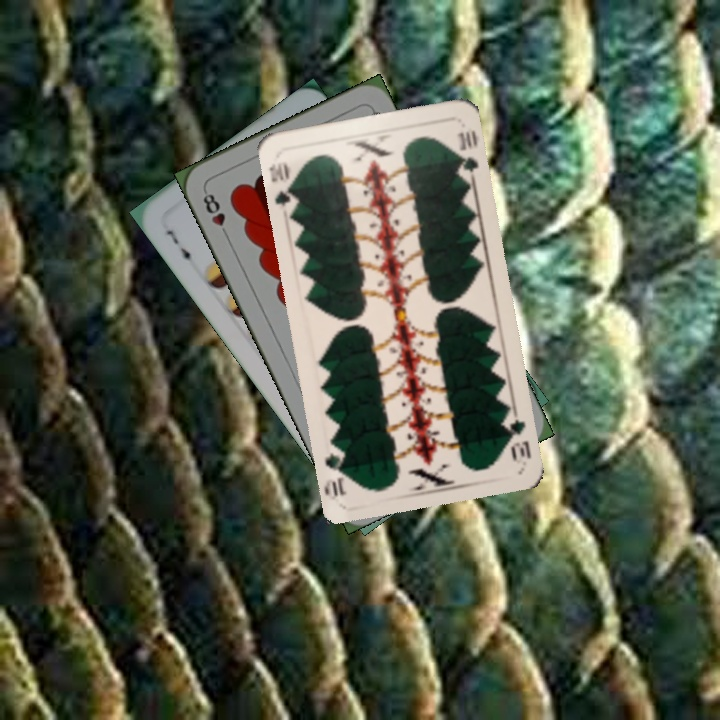E7: (162, 225, 196, 269)
G10: (500, 406, 534, 463), (266, 158, 299, 210)
H8: (198, 186, 232, 241)
